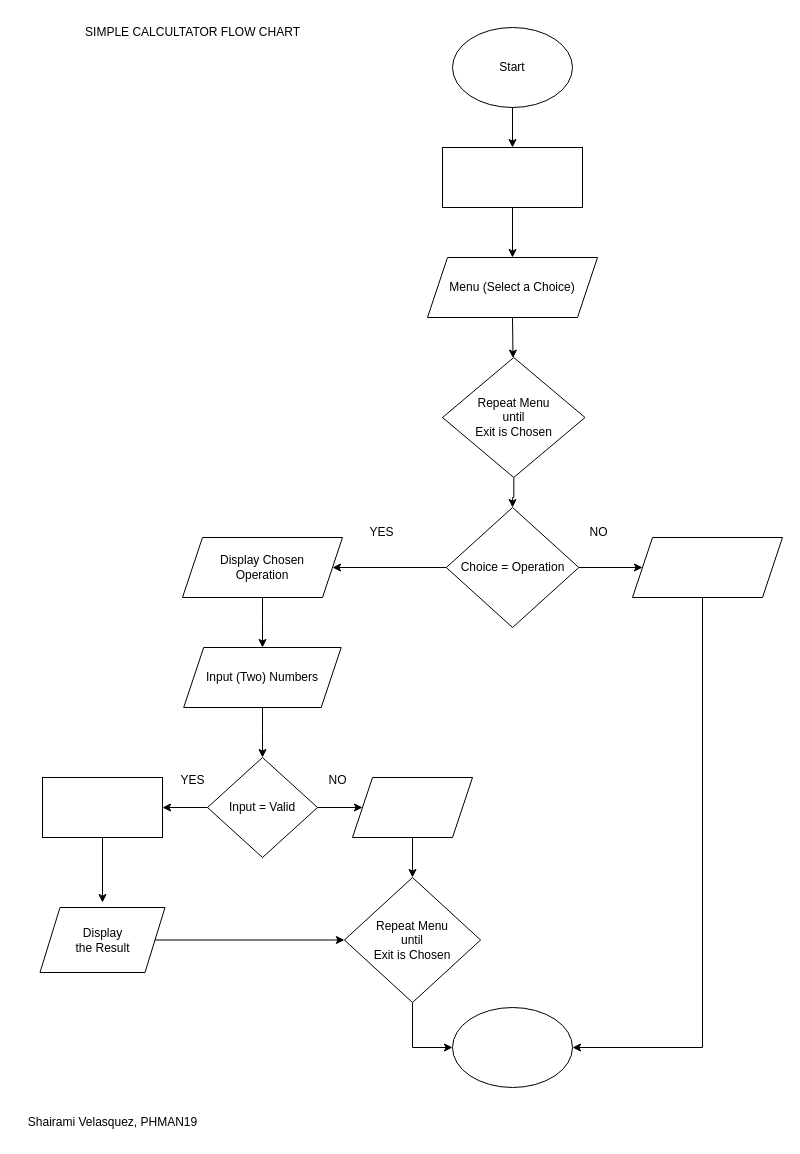
Some shapes in this 800 by 1154 pixel diagram are drawn without their labels. Here are the shapes that lost their labels. From the top down, the centre of each, then its label:
At [512,177]: "Welcome Message".
At [707,567]: "Display Exit Message".
At [102,807]: "Perform the Operation".
At [412,807]: "Display Error Message".
At [512,1047]: "End".
